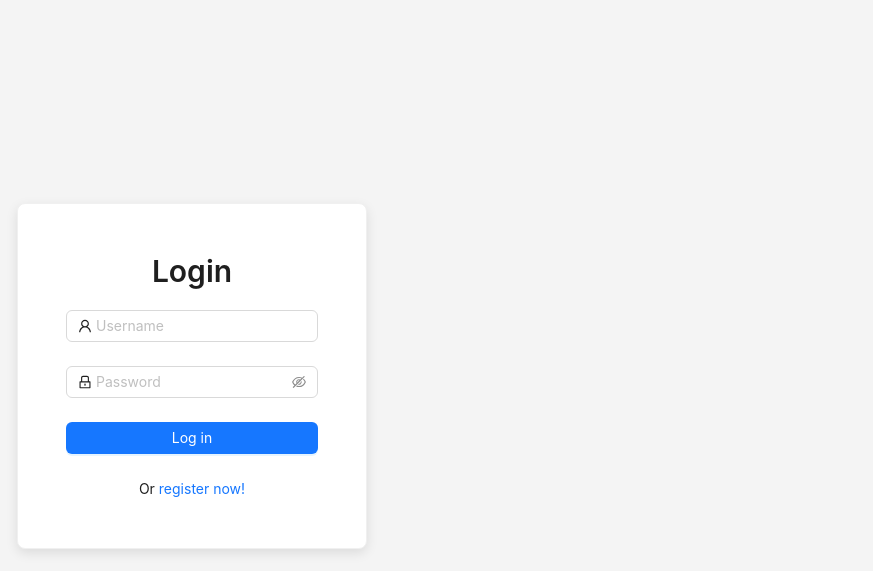
Test case: Login Page › shows error notification for invalid credentials
Type "invaliduser" into the field with placeholder "Username" at (201, 326), box left=96, top=315, right=306, bottom=337
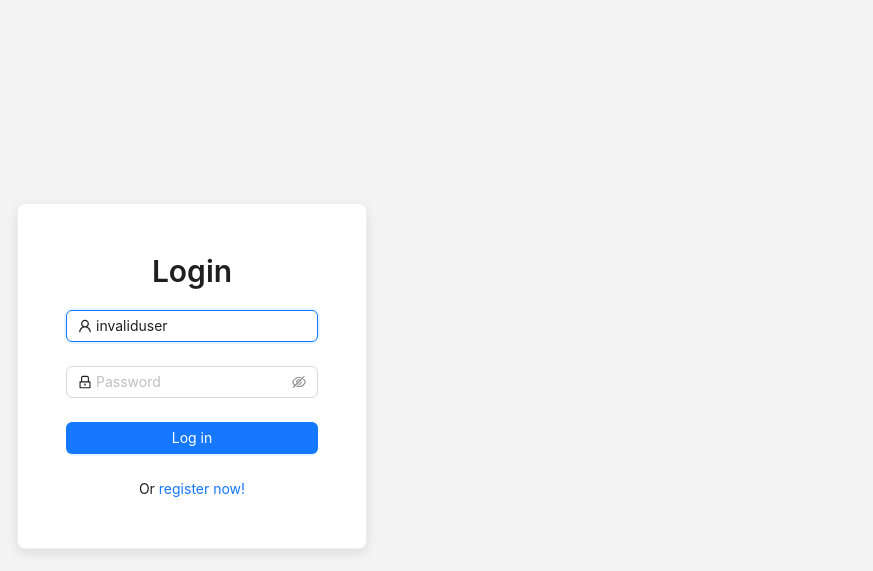
Type "invalidpassword" into the password field with placeholder "Password" at (192, 382), box left=96, top=371, right=288, bottom=393
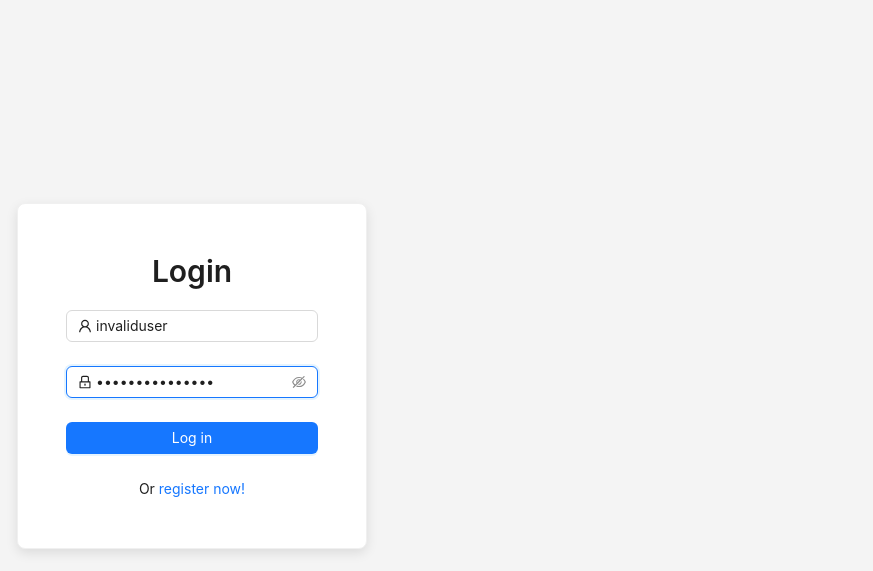
Click the submit button at (192, 438), box left=66, top=422, right=318, bottom=454
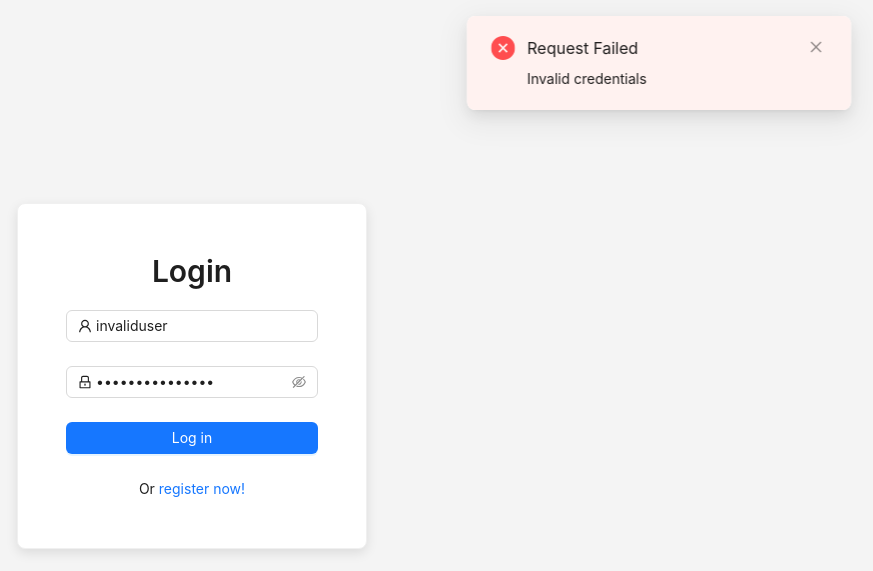
Result: the element showing "Request Failed Invalid credentials" is shown at left=467, top=16, right=851, bottom=110
Result: the text "Invalid credentials" is shown at left=527, top=70, right=647, bottom=87
